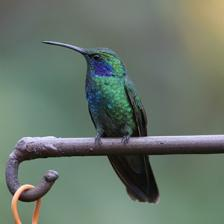Beak: (42, 41, 86, 55)
BirdBody: (44, 41, 147, 143), (108, 156, 159, 203)
Chest: (86, 73, 139, 137)
Foot: (120, 134, 131, 145), (95, 133, 102, 146)
GreenBGD: (0, 0, 224, 224), (19, 154, 223, 224)
Head: (42, 42, 126, 77)
Tail: (108, 156, 159, 204)
Wing: (125, 75, 147, 136)
WoodBGD: (6, 135, 224, 194), (19, 171, 58, 202)
